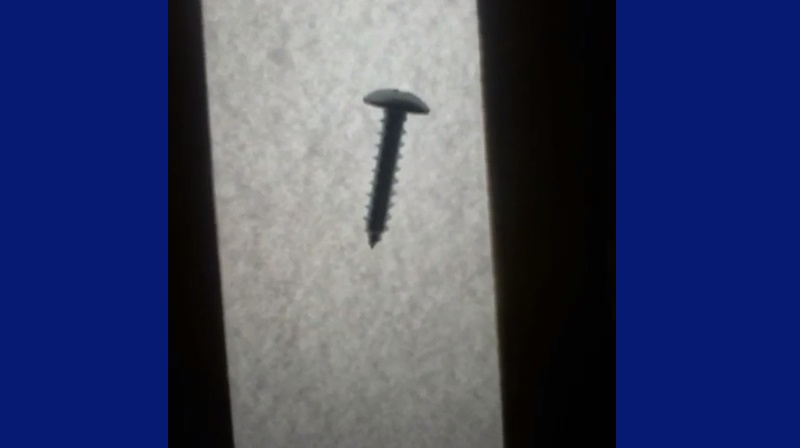S003: (359, 84, 432, 249)
